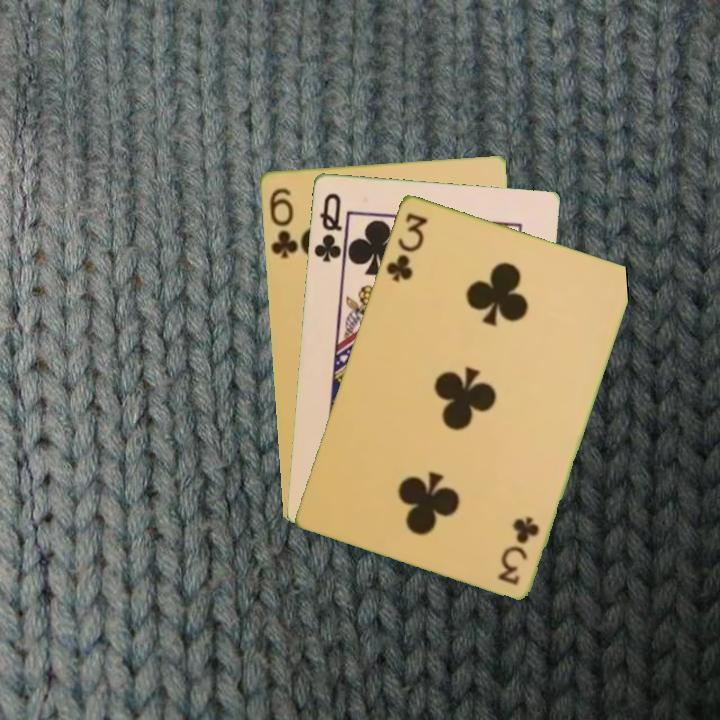3c: (382, 208, 430, 285), (494, 512, 542, 588)
6c: (265, 183, 300, 261)
Qc: (310, 189, 345, 264)
